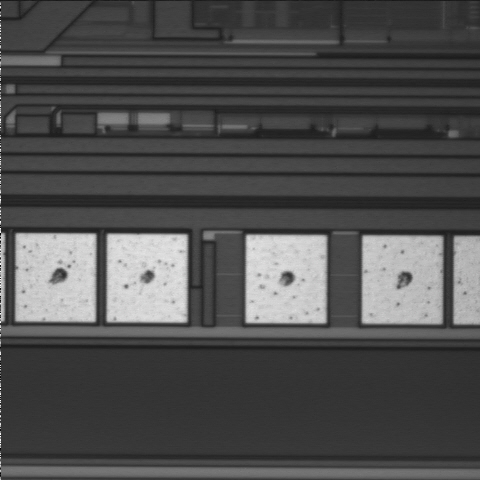pad: (16, 234, 96, 322), (107, 234, 187, 322), (246, 235, 326, 323), (363, 236, 442, 323)
